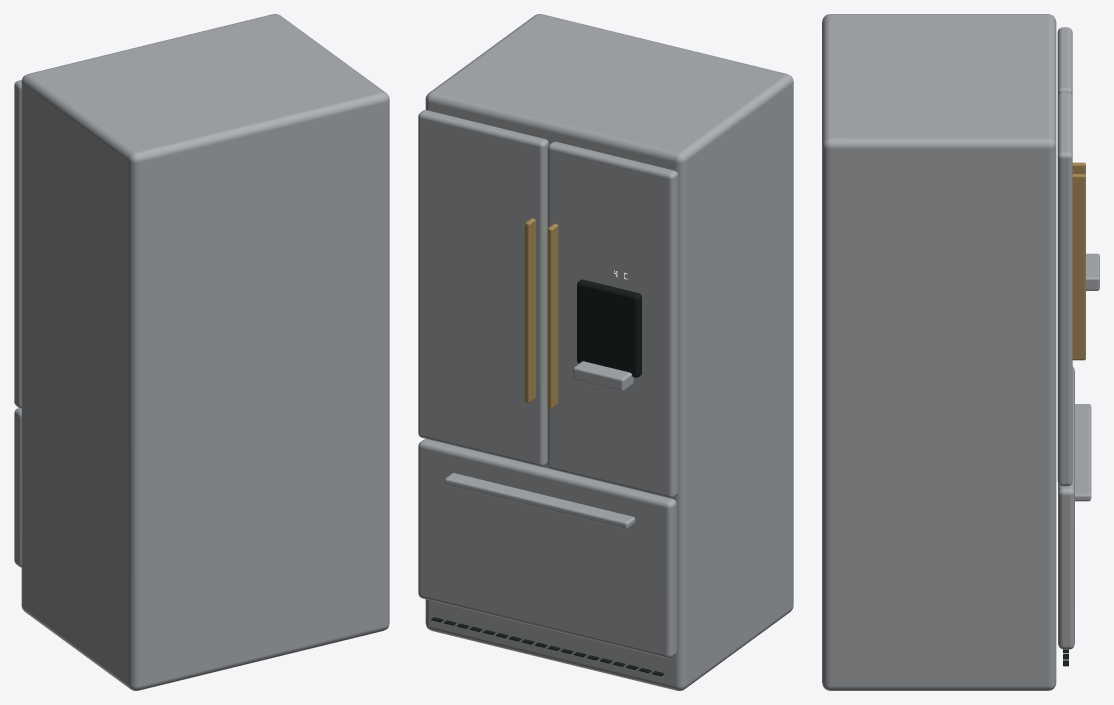
Rendered from luxury-column-fridge.glb.
The picture shows the model from 3 angles, left to right: view 1: azimuth 30°, elevation 25°; view 2: azimuth 150°, elevation 25°; view 3: azimuth 270°, elevation 25°; orthographic projection. The views are drawn at different scales.
Visible parts, largest first — view 1: steel_0; view 2: steel_0, dark_7, bronze_2; view 3: steel_0, bronze_2.
Boxes of the visible parts, <box> form: steel_0: <box>14,14,389,690</box>; steel_0: <box>418,14,793,690</box>; dark_7: <box>431,279,664,676</box>; bronze_2: <box>525,218,558,408</box>; steel_0: <box>822,14,1099,690</box>; bronze_2: <box>1072,162,1085,360</box>.
Size of the model in its own units: 0.9201 by 1.82 by 0.8299.
